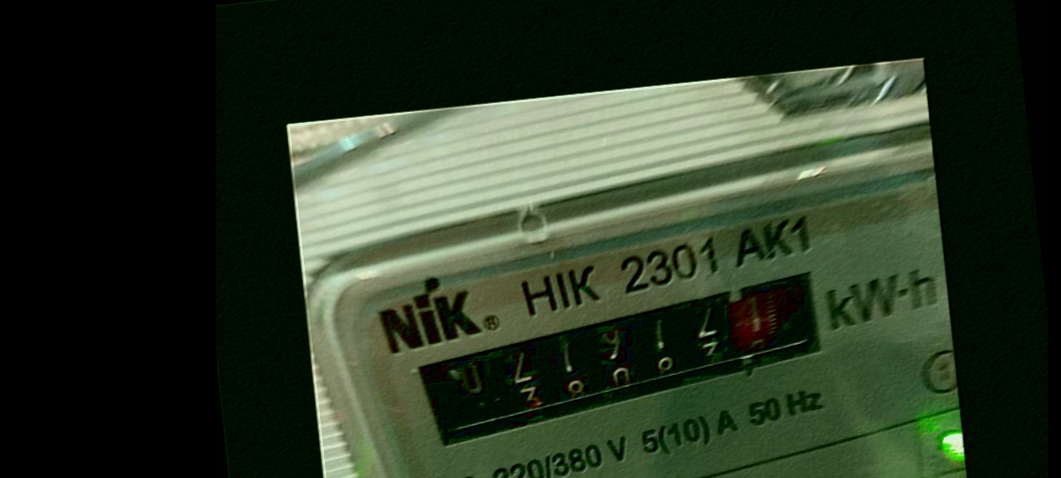0: (457, 359, 489, 398)
1: (745, 292, 771, 337)
2: (505, 345, 538, 387), (692, 301, 723, 341)
7: (645, 311, 676, 355), (555, 337, 581, 376)
9: (601, 325, 630, 363)
screen: (397, 260, 863, 460)
